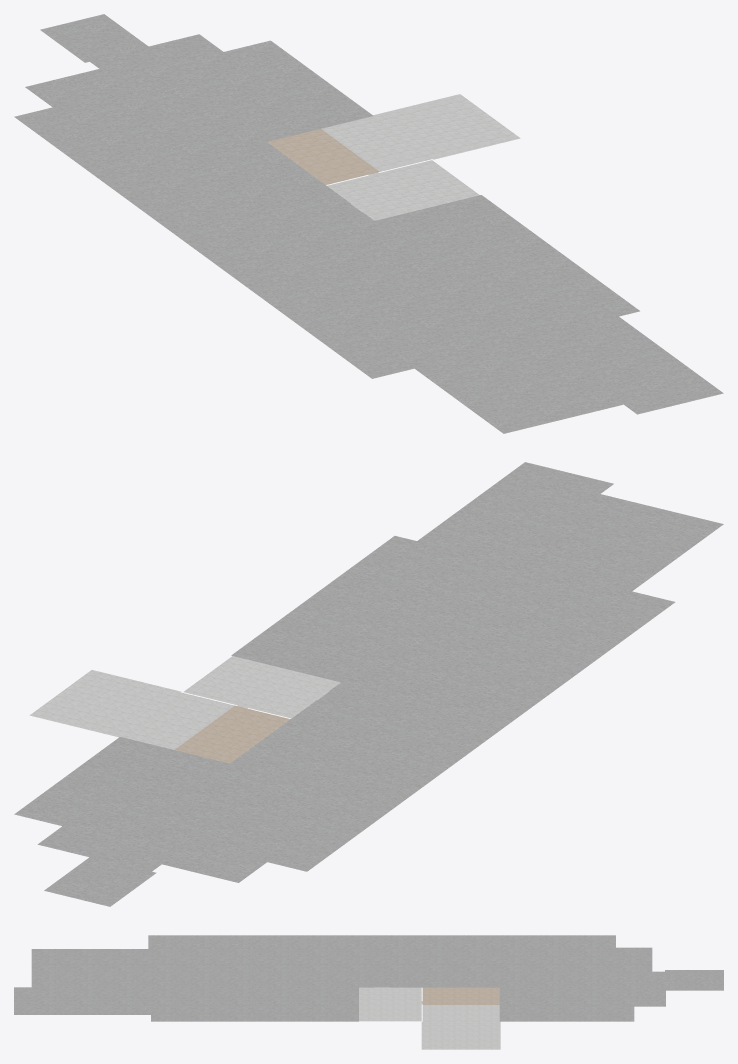
3 views of the same model, one above another, from view 1: azimuth 30°, elevation 25°; view 2: azimuth 150°, elevation 25°; view 3: azimuth 270°, elevation 25° (orthographic). The views are drawn at different scales.
Visible parts, largest first — view 1: SM_地面; view 2: SM_地面; view 3: SM_地面.
Boxes of the visible parts, x1=… form: SM_地面: x1=14, y1=14, x2=723, y2=433; SM_地面: x1=14, y1=462, x2=723, y2=906; SM_地面: x1=14, y1=935, x2=723, y2=1049.
Size of the model in its own units: 34777 by 1.08 by 91486.
